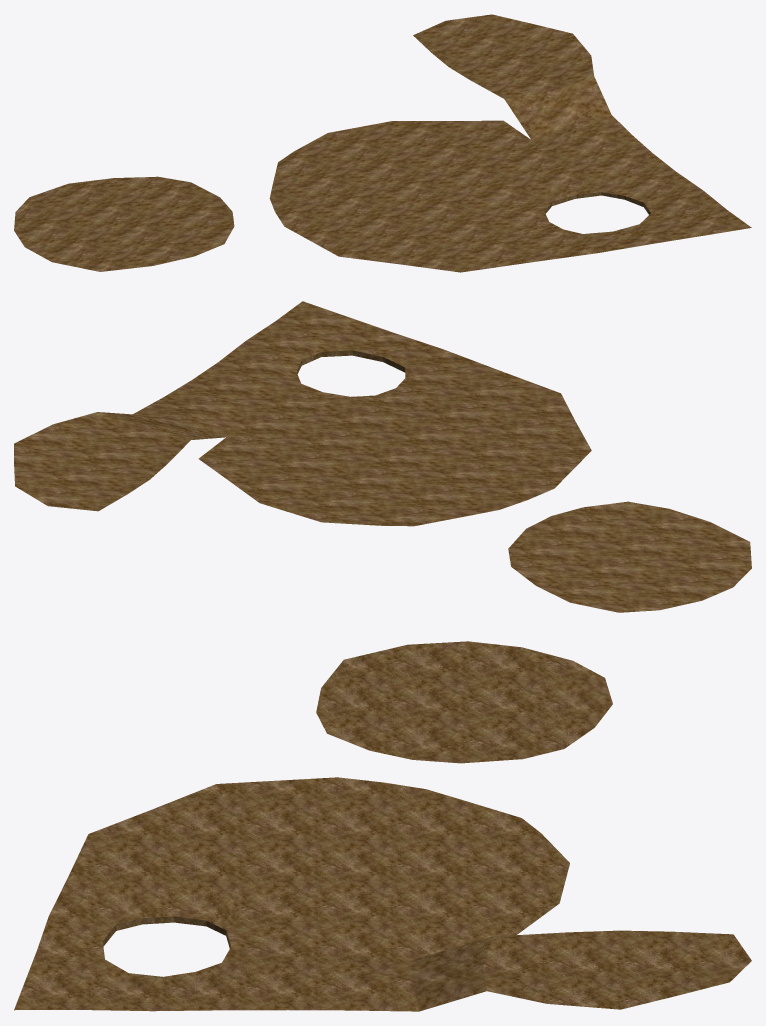
Rendered from 0_Floor_4_Alpha.FBX.
The picture shows the model from 3 angles, top to bottom: view 1: azimuth 30°, elevation 25°; view 2: azimuth 150°, elevation 25°; view 3: azimuth 270°, elevation 25°; orthographic projection. The views are drawn at different scales.
Parts seen in each view (by area): view 1: 0_Floor_4; view 2: 0_Floor_4; view 3: 0_Floor_4.
Boxes of the visible parts, <box> form: 0_Floor_4: <box>14,14,751,272</box>; 0_Floor_4: <box>14,301,751,612</box>; 0_Floor_4: <box>14,641,751,1011</box>.
Bounding box in the file's own units: 4480 × 195 × 3468.
